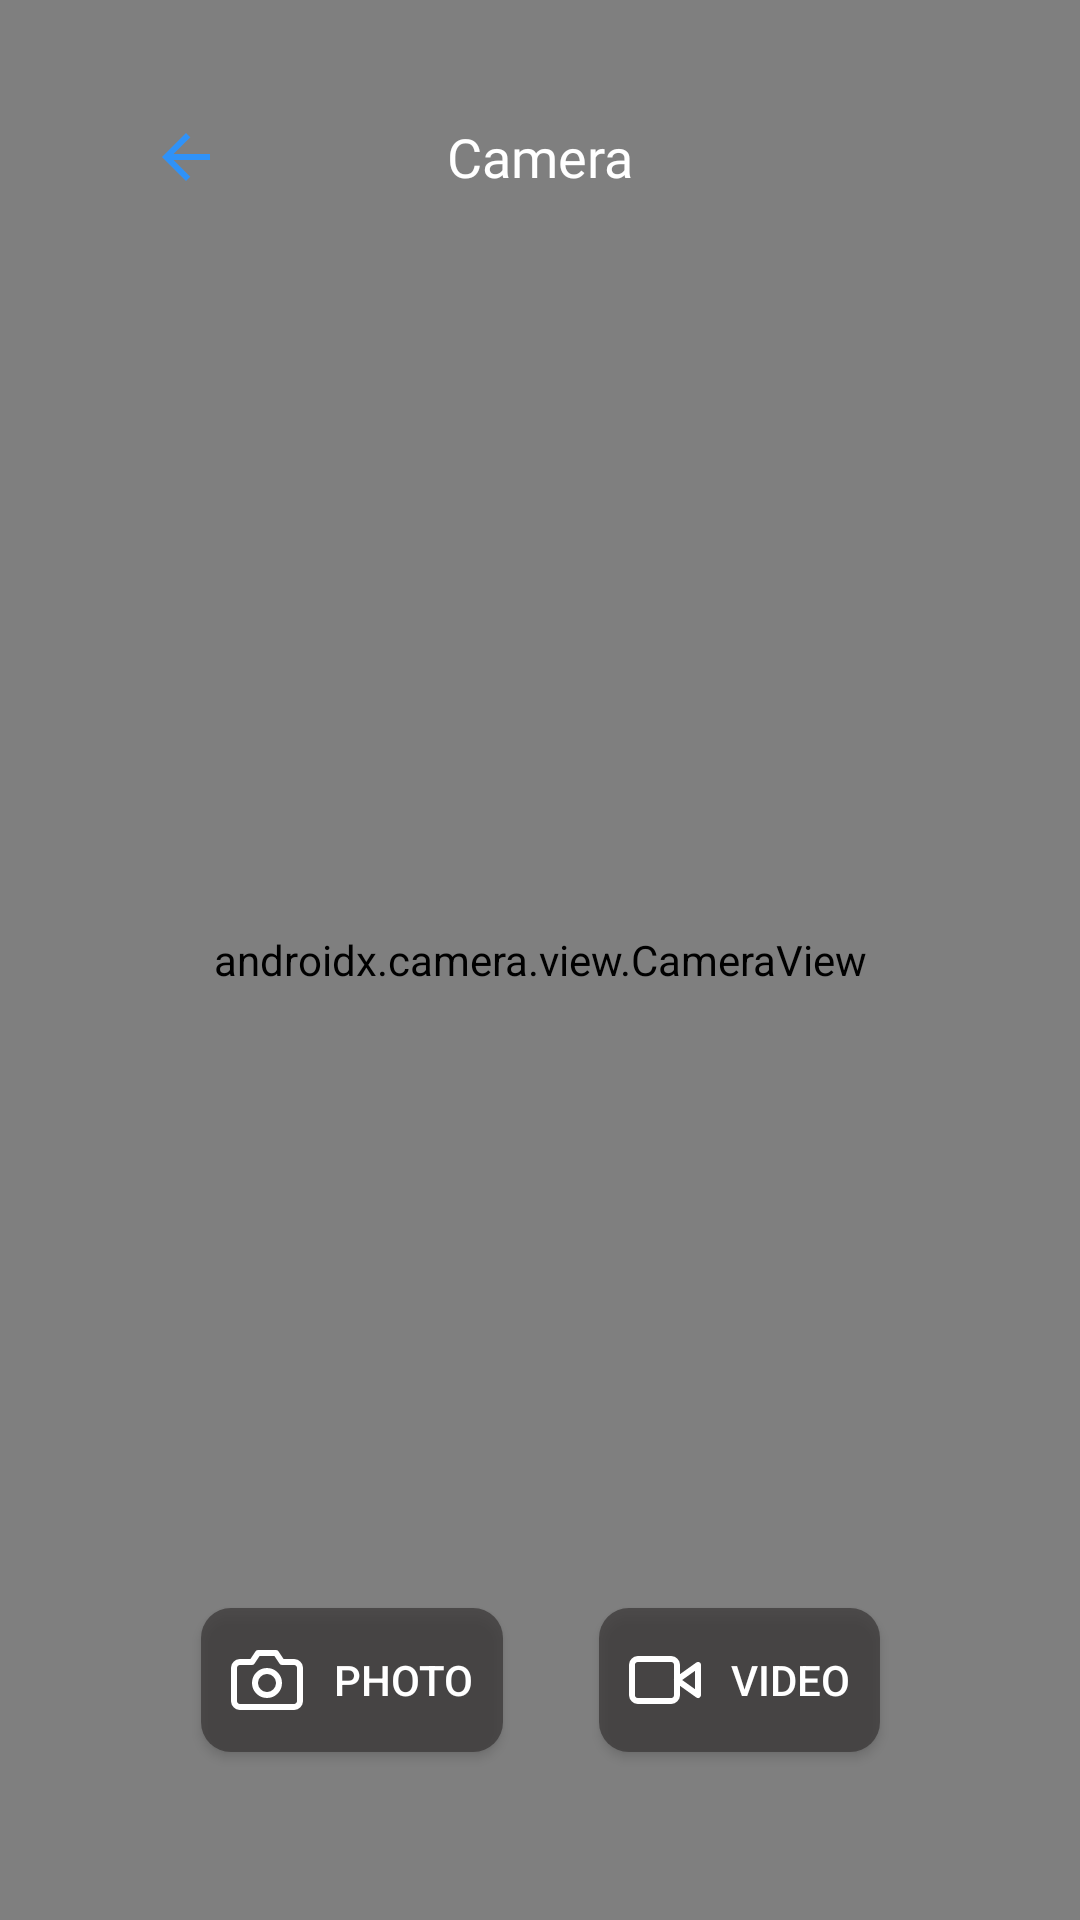

Named icons in this screenshot (1080×1920) and their bounding boxes, region(x1, y1, x2, y2):
arrow back: region(162, 133, 210, 181)
